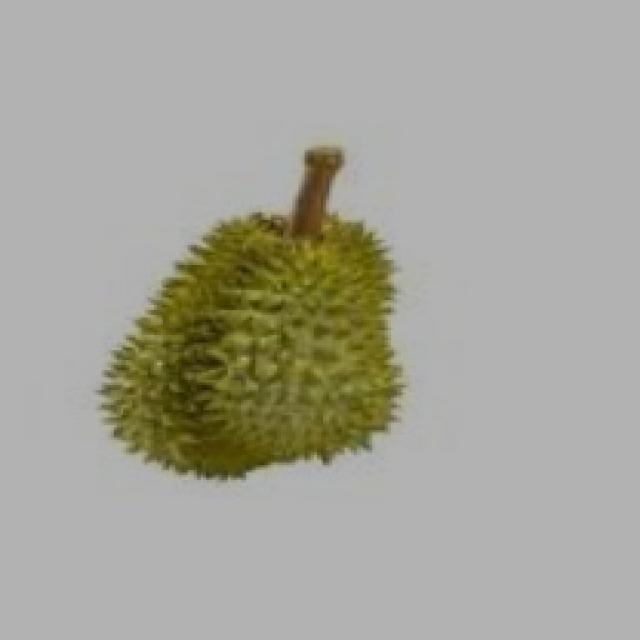fruit: (65, 185, 437, 523)
